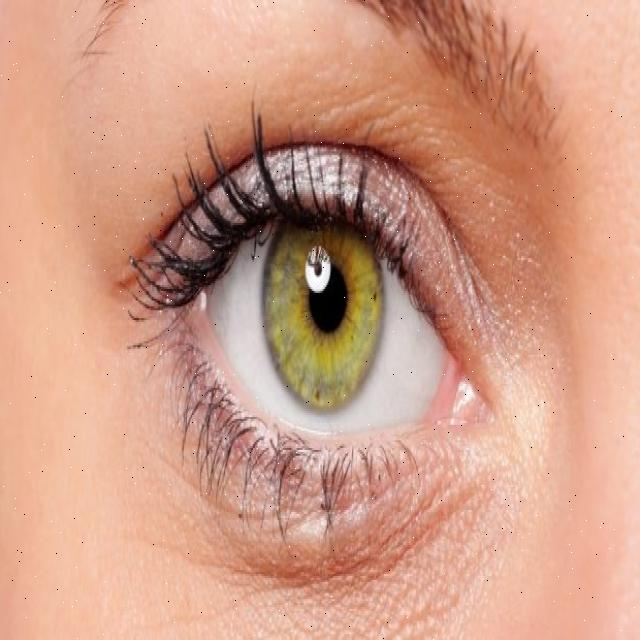Normal: (262, 180, 384, 412)
